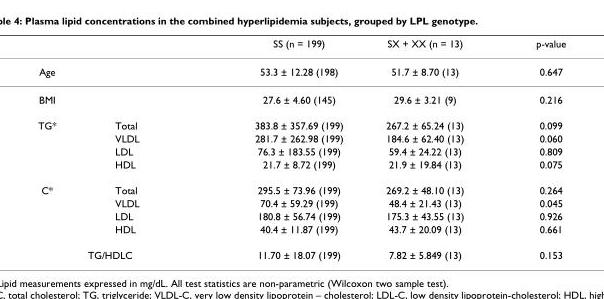table: (37, 37, 565, 260)
table column: (196, 37, 363, 260), (363, 37, 499, 260), (84, 37, 196, 260), (499, 37, 565, 260), (37, 37, 84, 260)
table column header: (37, 37, 565, 57)
table row: (37, 57, 565, 85), (37, 85, 565, 112), (37, 37, 565, 57), (37, 176, 565, 196), (37, 112, 565, 131), (37, 157, 565, 176), (37, 222, 565, 241), (37, 241, 565, 260), (37, 131, 565, 144), (37, 144, 565, 157), (37, 196, 565, 209), (37, 209, 565, 222)
table spanning cell: (37, 176, 84, 241), (37, 241, 196, 260), (37, 112, 84, 176)
